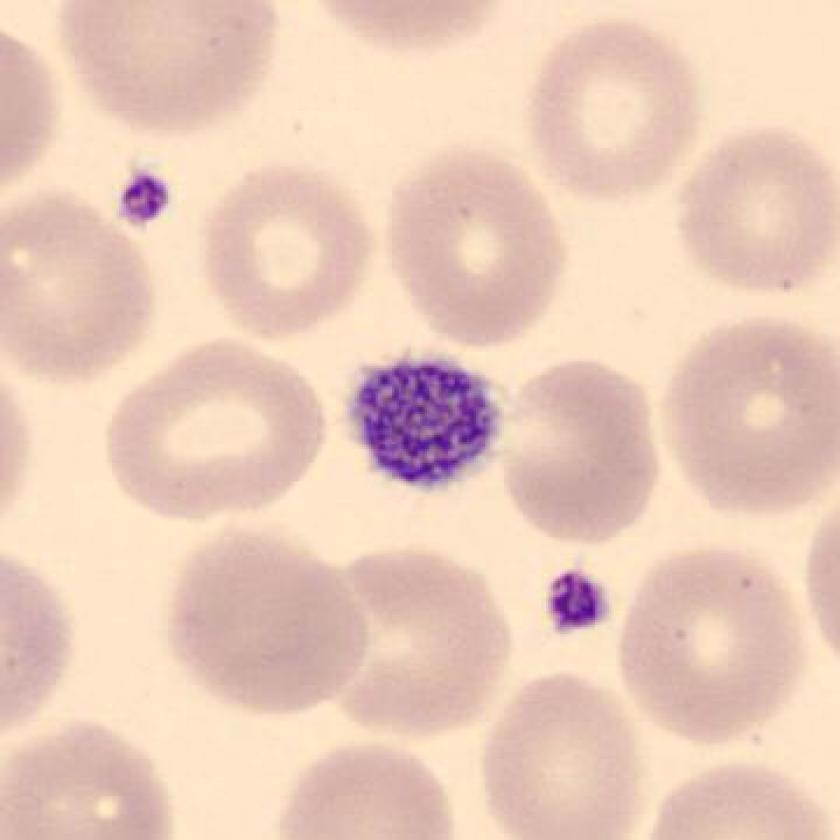platelets: (339, 355, 505, 499), (540, 554, 612, 647), (113, 156, 178, 237)
